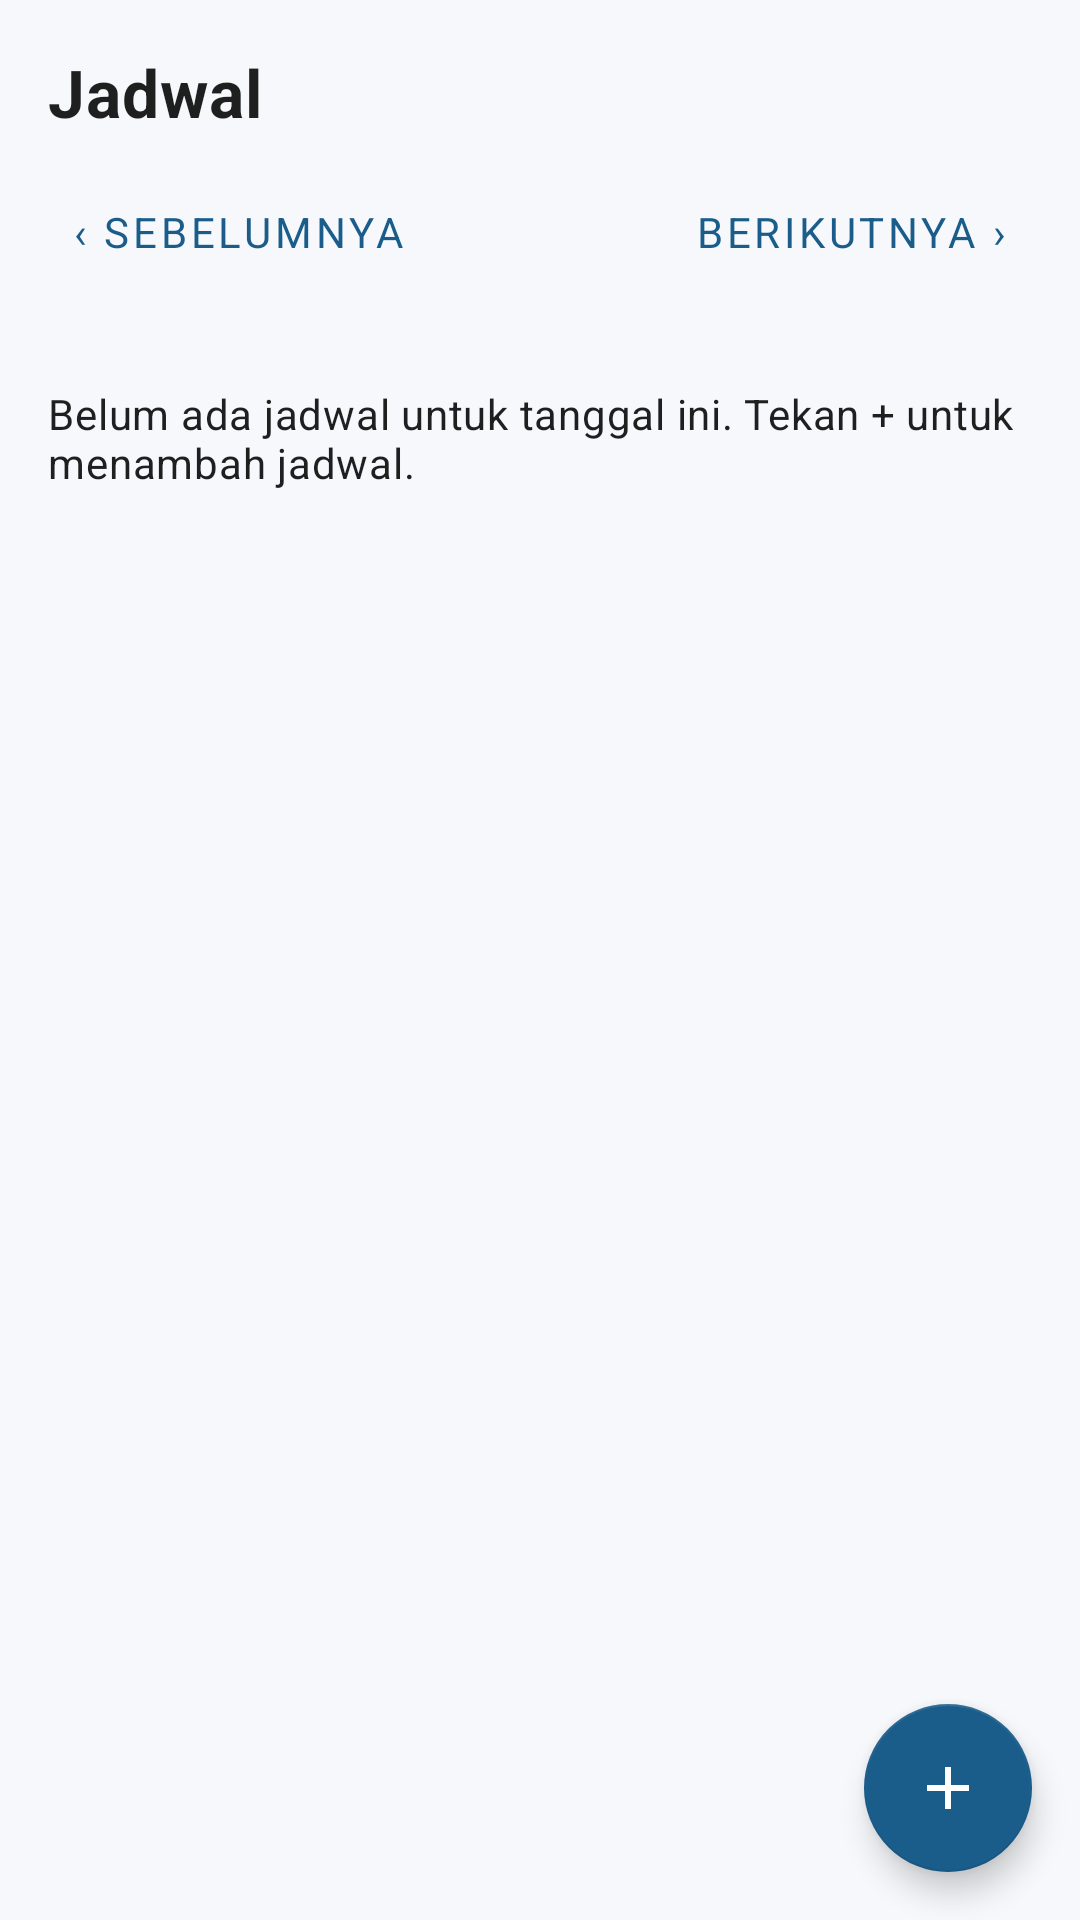

Screen size 1080px×1920px. Icon name, then its center in pixels as point (x, y):
Tambah jadwal: point (948, 1788)
